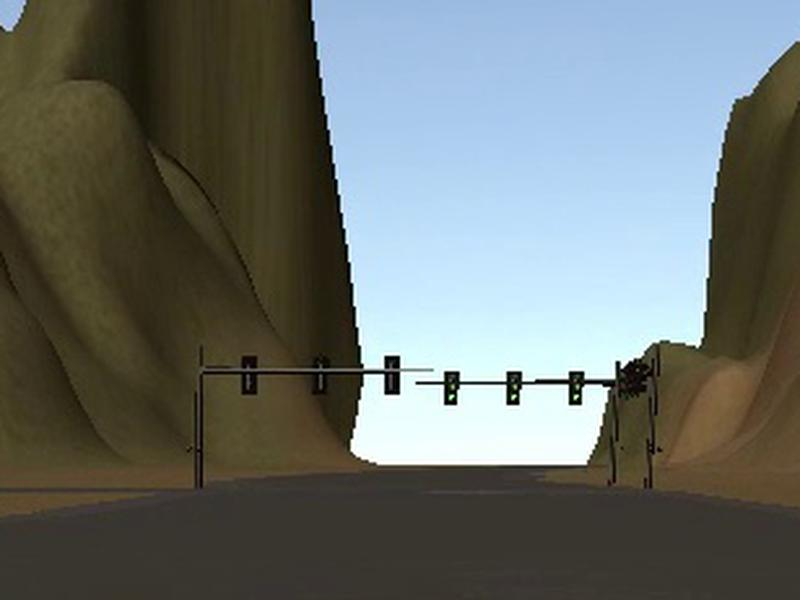Green: (444, 371, 460, 405), (506, 371, 522, 405), (568, 371, 584, 404)
